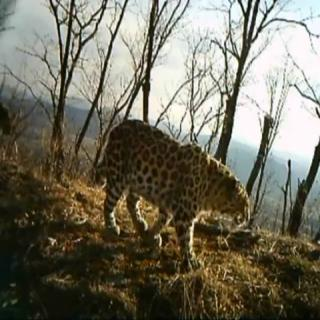Leopard: (87, 96, 263, 273)
